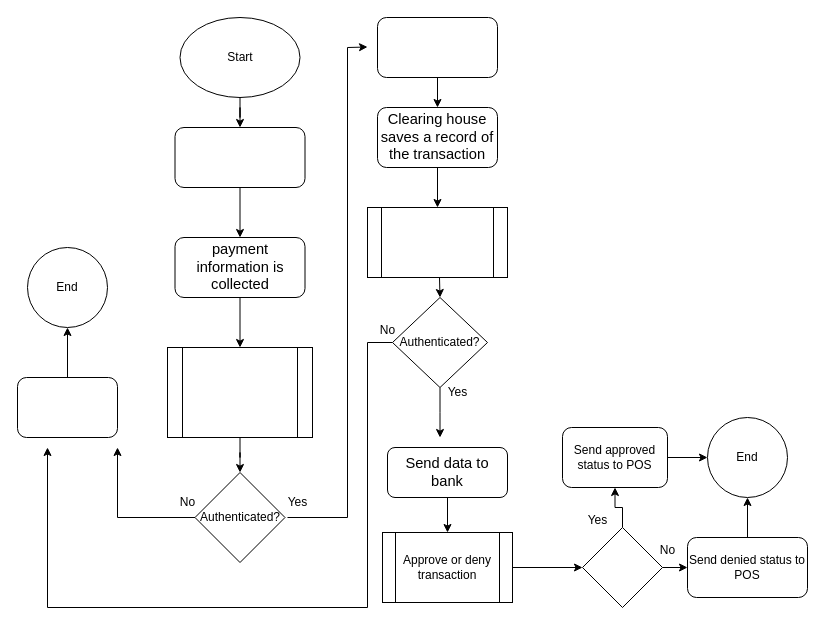
Some shapes in this 825 by 633 pixel diagram are drawn without their labels. Each missing label, with the centre of its shape:
"Approved?" goes at (622,567).
"Authenticate clearing house with bank" goes at (437,242).
"Card is swiped at POS" goes at (239,157).
"Error sent to POS" goes at (67,407).
"POS authenticates with the clearing house" goes at (239,392).
"POS sends data to clearing house" goes at (437,47).
